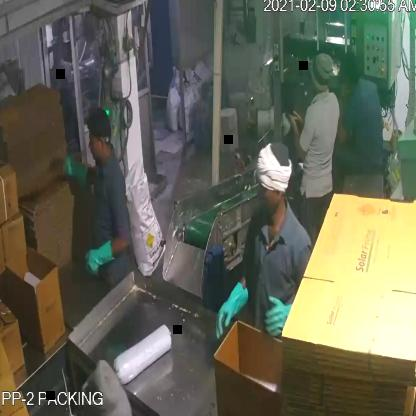glove: (210, 276, 252, 343), (259, 291, 298, 344), (78, 237, 125, 279), (55, 150, 95, 198)
no_glove: (282, 105, 311, 165)
